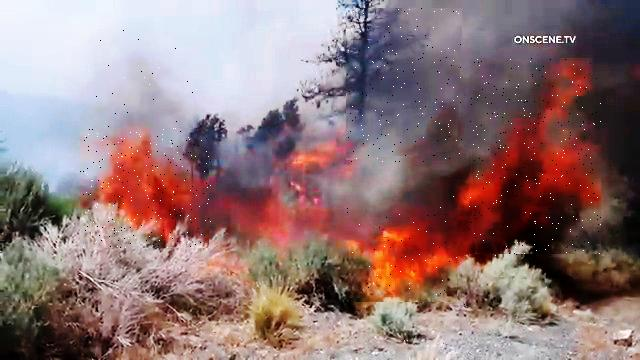fire: (469, 59, 601, 257), (81, 125, 212, 248), (346, 193, 457, 302)
smoke: (346, 9, 463, 164), (94, 22, 198, 128)
